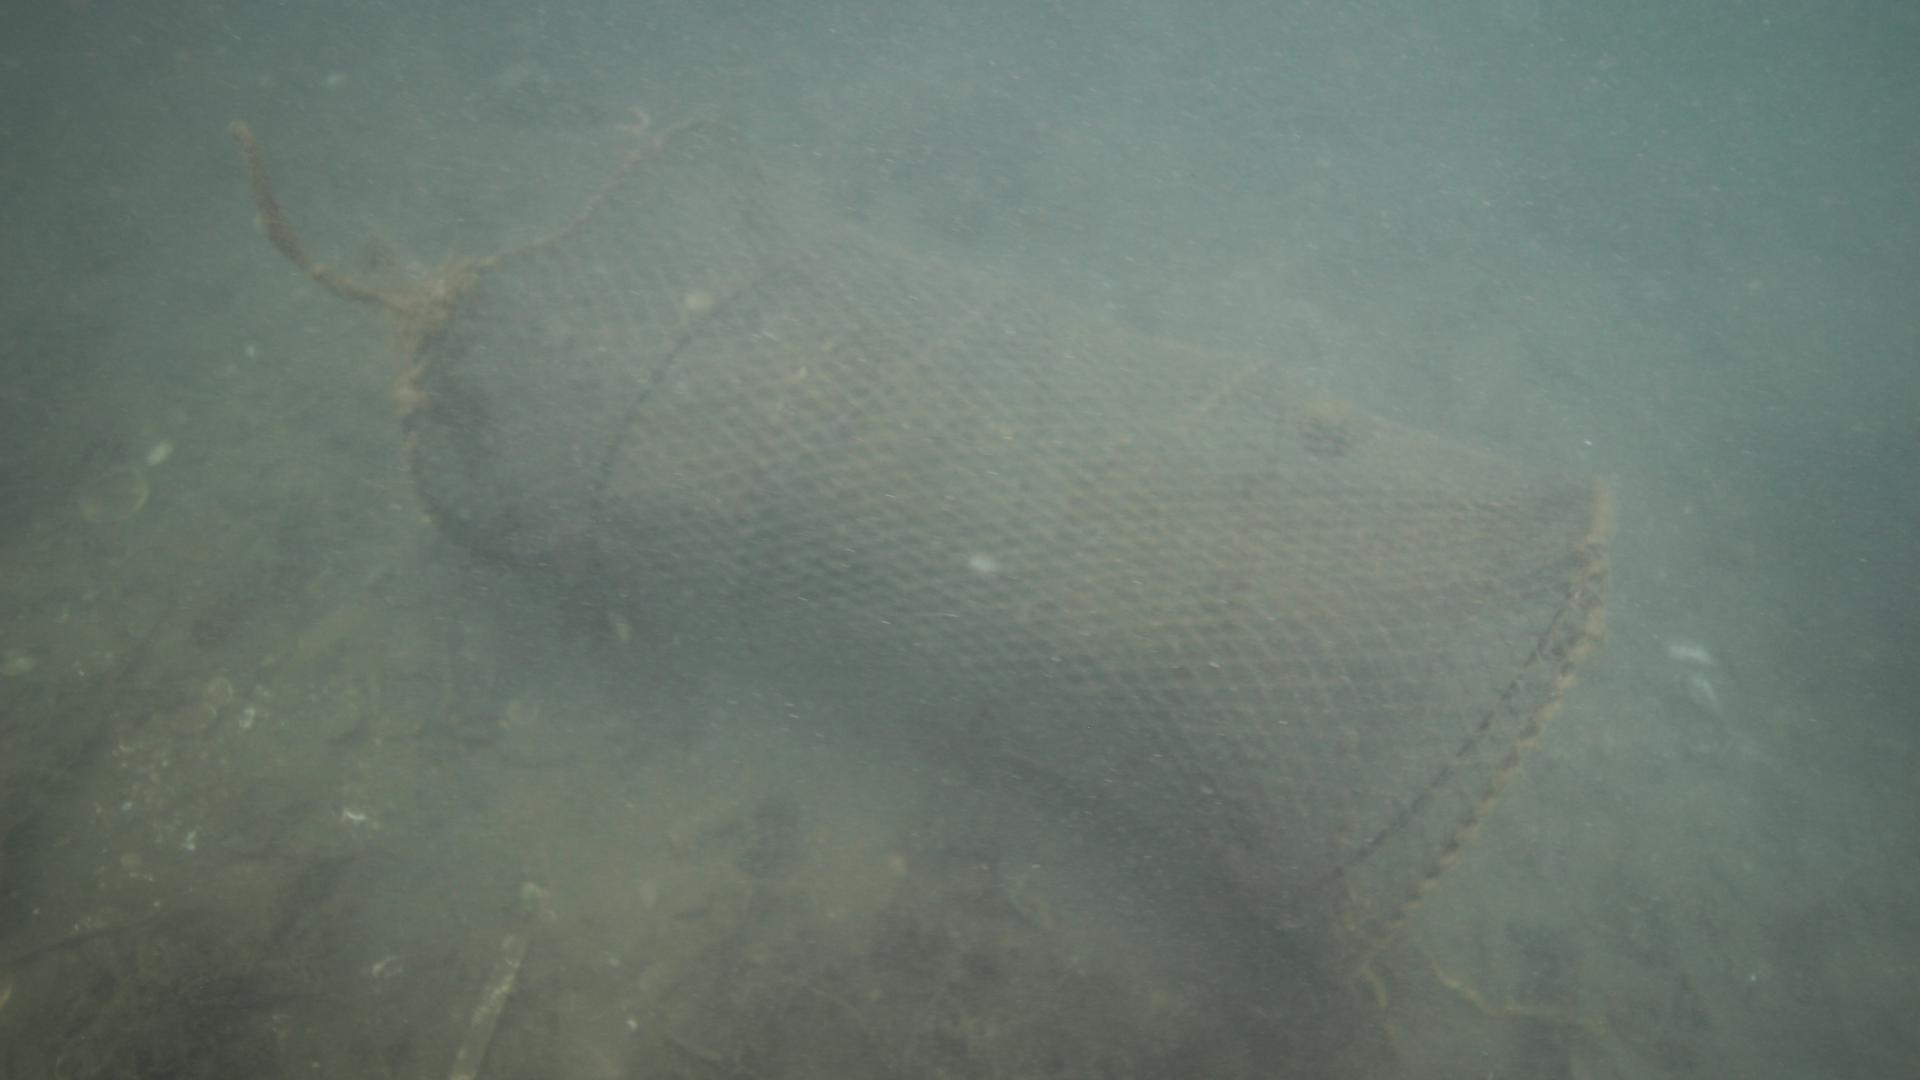bundle of ropes: (227, 117, 438, 313)
spring fish trap: (388, 119, 1623, 998)
